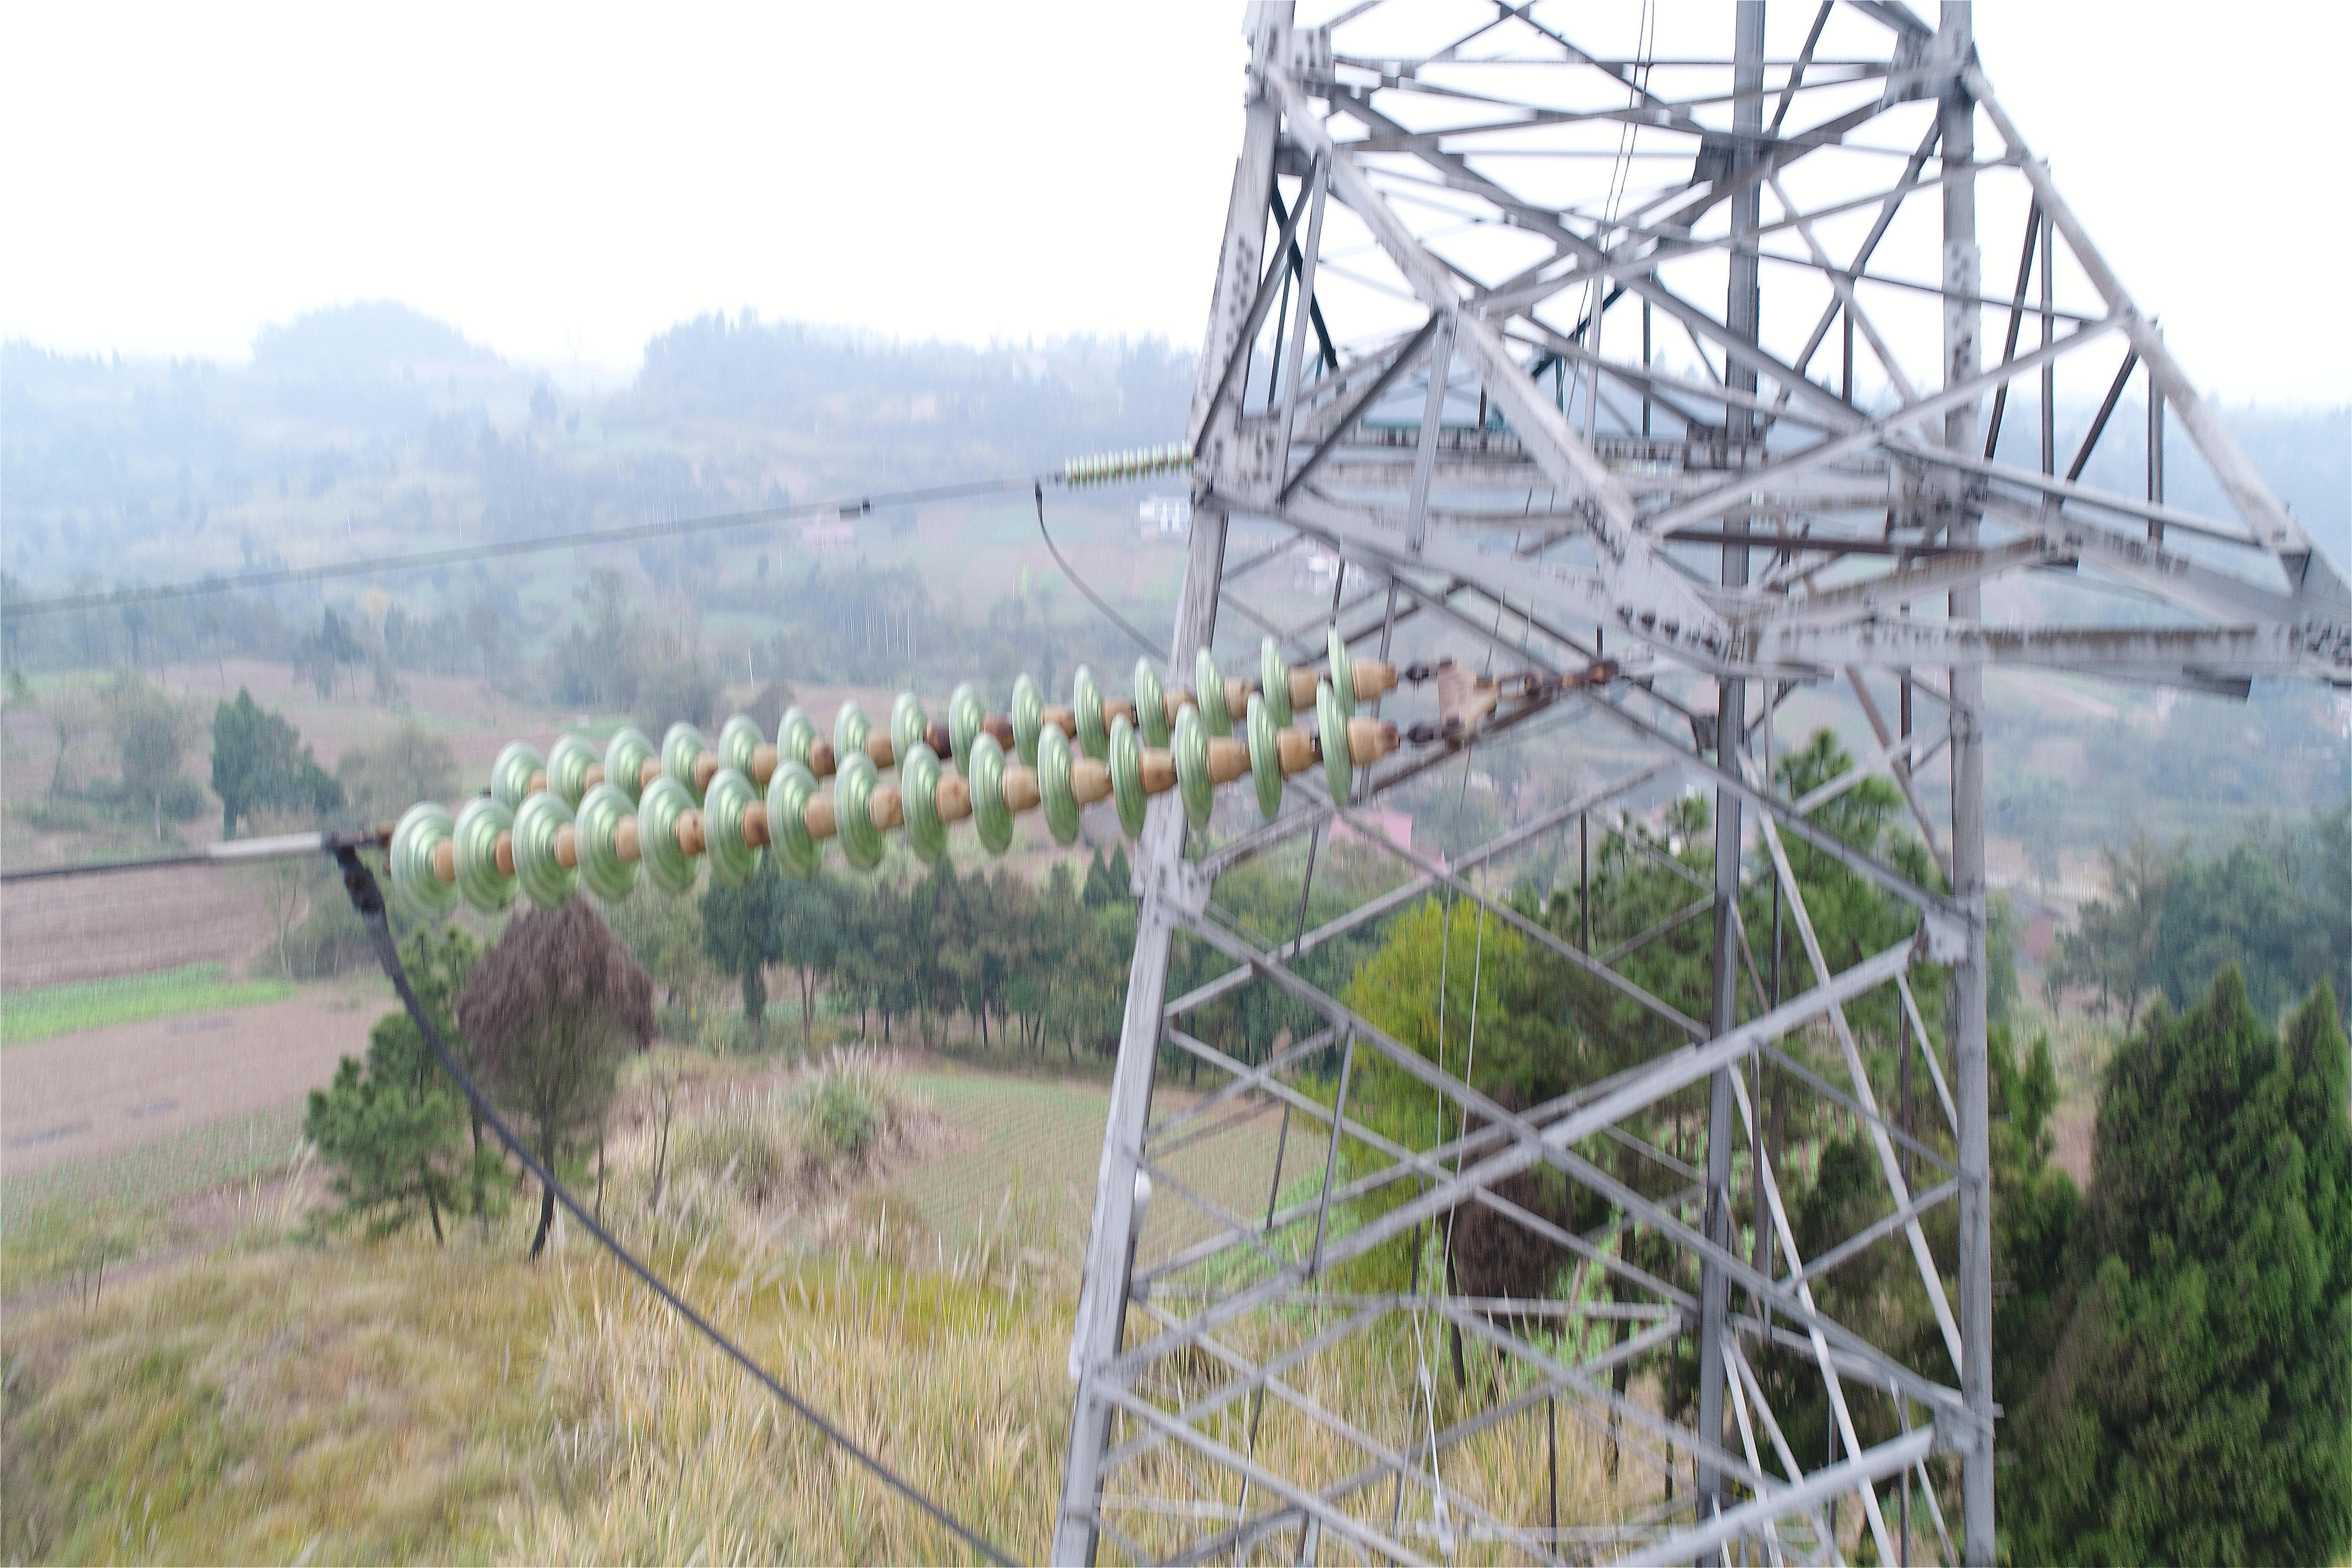insultor3: (366, 637, 1346, 915)
